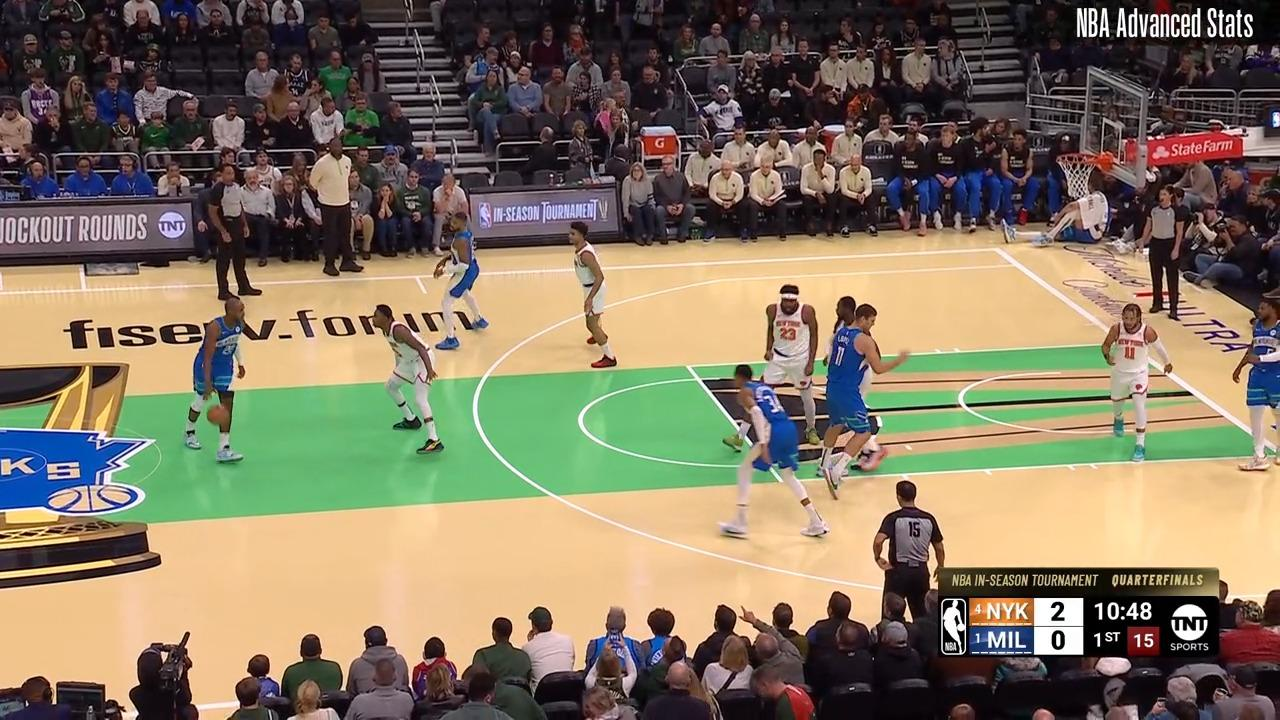Backboard: (1076, 73, 1145, 174)
Ball: (207, 403, 229, 425)
Basket: (1061, 151, 1108, 204)
Person: (714, 366, 836, 544), (818, 299, 895, 470), (368, 301, 445, 456), (1095, 299, 1168, 462), (186, 296, 258, 460), (1227, 298, 1280, 480), (759, 281, 822, 429), (432, 208, 493, 352), (563, 216, 616, 360)
Referee: (874, 480, 948, 638), (206, 164, 266, 303), (1140, 186, 1190, 321)
